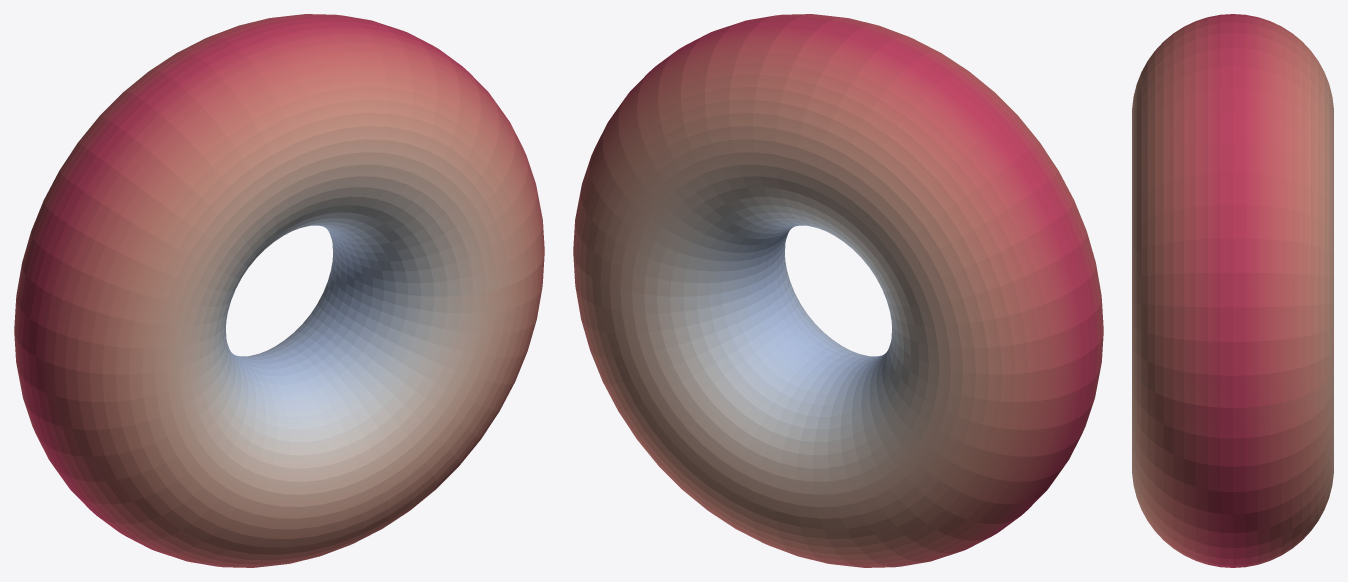
The picture shows the model from 3 angles, left to right: view 1: azimuth 30°, elevation 25°; view 2: azimuth 150°, elevation 25°; view 3: azimuth 270°, elevation 25°; orthographic projection. The views are drawn at different scales.
Parts seen in each view (by area): view 1: world; view 2: world; view 3: world.
Boxes of the visible parts, x1,y1,x2,y2 form: world: [14, 14, 544, 567]; world: [573, 14, 1103, 567]; world: [1132, 14, 1333, 567].
Size of the model in its own units: 25.2 by 25.15 by 9.18.
